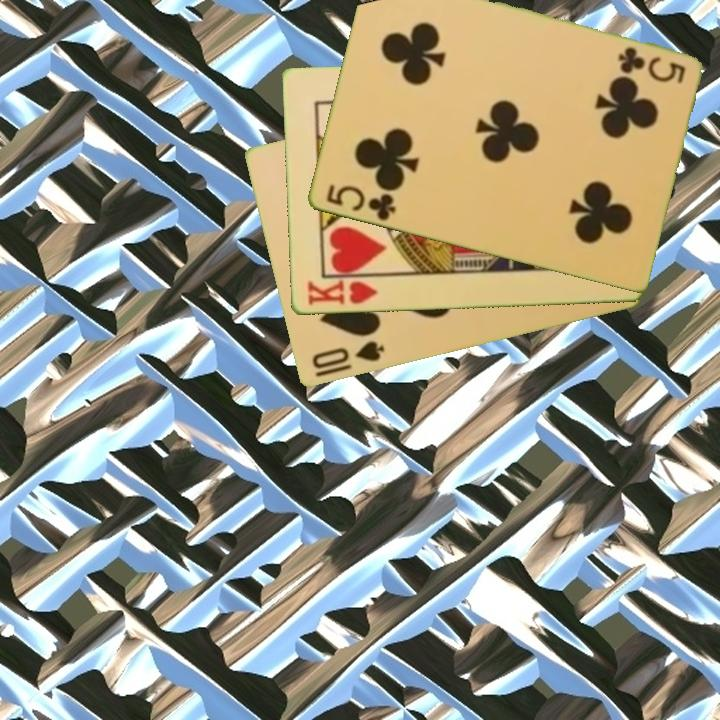10s: (308, 338, 387, 373)
5c: (614, 43, 688, 88), (322, 181, 398, 224)
Kh: (303, 274, 384, 309)
